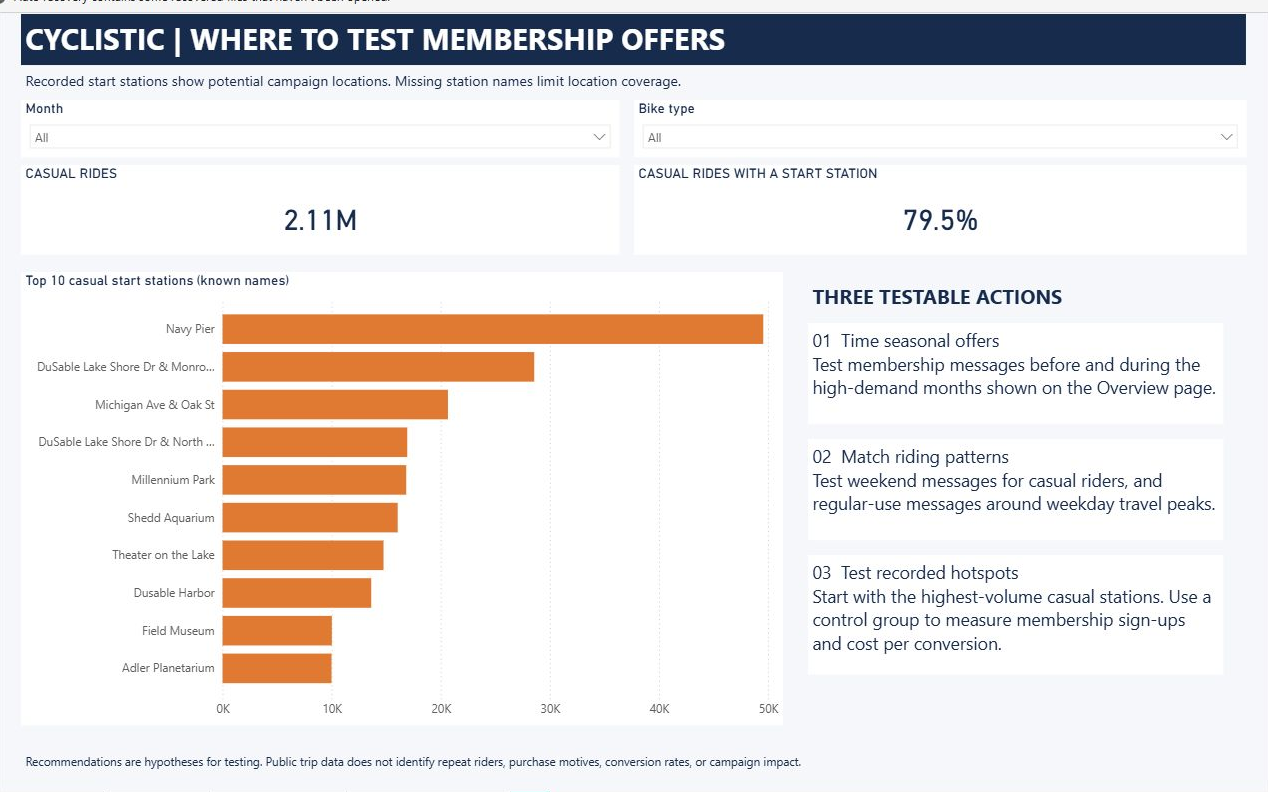

The page's visual inventory and layout, read from the dashboard file:
{"tool":"powerbi","page":{"name":"03 Campaign Planning","canvas":[1440,900],"ordinal":2},"visuals":[{"type":"textbox","box":[24,16,1392,58],"z":28},{"type":"textbox","box":[24,76,1392,37],"z":29},{"type":"slicer","title":"Month","fields":{"Values":["Month.Month"]},"box":[24,114,680,65],"z":30},{"type":"slicer","title":"Bike type","fields":{"Values":["Bike.Bike"]},"box":[720,114,696,65],"z":31},{"type":"card","title":"CASUAL RIDES","fields":{"Values":["Trips.Casual Station Rides"]},"box":[24,187,680,102],"z":32},{"type":"card","title":"CASUAL RIDES WITH A START STATION","fields":{"Values":["Trips.Known Casual Station Share"]},"box":[720,187,696,102],"z":33},{"type":"clusteredBarChart","title":"Top 10 casual start stations (known names)","fields":{"Category":["Stations.Start station"],"Y":["Trips.Top 10 Casual Station Rides"]},"box":[24,309,866,515],"z":34},{"type":"textbox","box":[918,316,480,43],"z":35},{"type":"textbox","box":[918,367,472,115],"z":36},{"type":"textbox","box":[918,499,472,115],"z":37},{"type":"textbox","box":[918,631,472,136],"z":38},{"type":"textbox","box":[24,851,1392,34],"z":39}]}

Visuals, with their boxes in screenshot pixels (x1, y1, x2, y2), scaled from the page's 1440x900 canvas onto the 1268x792 screenshot:
textbox: x1=21, y1=14, x2=1247, y2=65
textbox: x1=21, y1=67, x2=1247, y2=99
"Month" slicer: x1=21, y1=100, x2=620, y2=158
"Bike type" slicer: x1=634, y1=100, x2=1247, y2=158
"CASUAL RIDES" card: x1=21, y1=165, x2=620, y2=254
"CASUAL RIDES WITH A START STATION" card: x1=634, y1=165, x2=1247, y2=254
"Top 10 casual start stations (known names)" clusteredBarChart: x1=21, y1=272, x2=784, y2=725
textbox: x1=808, y1=278, x2=1231, y2=316
textbox: x1=808, y1=323, x2=1224, y2=424
textbox: x1=808, y1=439, x2=1224, y2=540
textbox: x1=808, y1=555, x2=1224, y2=675
textbox: x1=21, y1=749, x2=1247, y2=779
